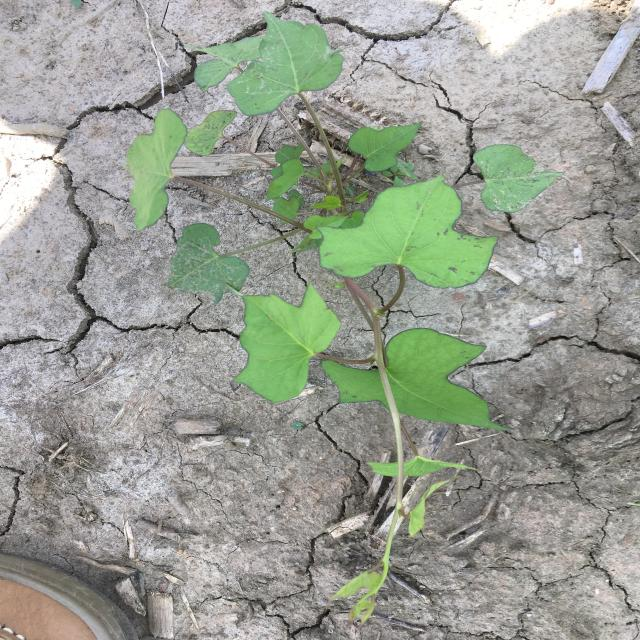MorningGlory: (124, 11, 570, 626)
